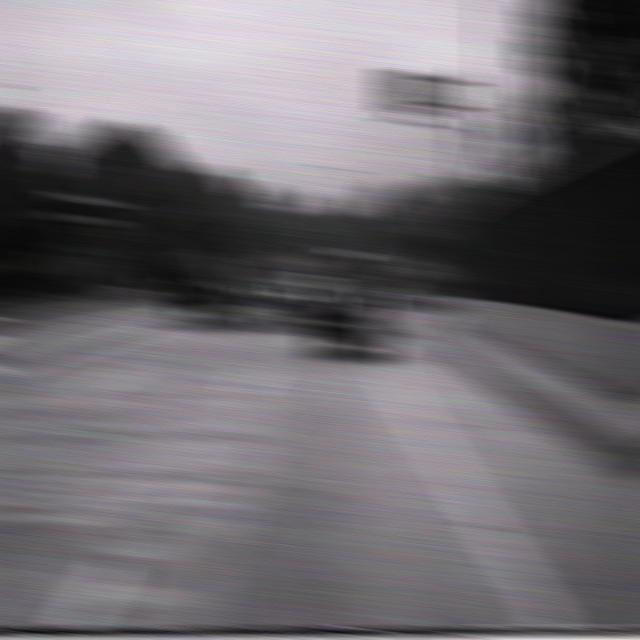pedestrianCrossing: (464, 94, 534, 192)
